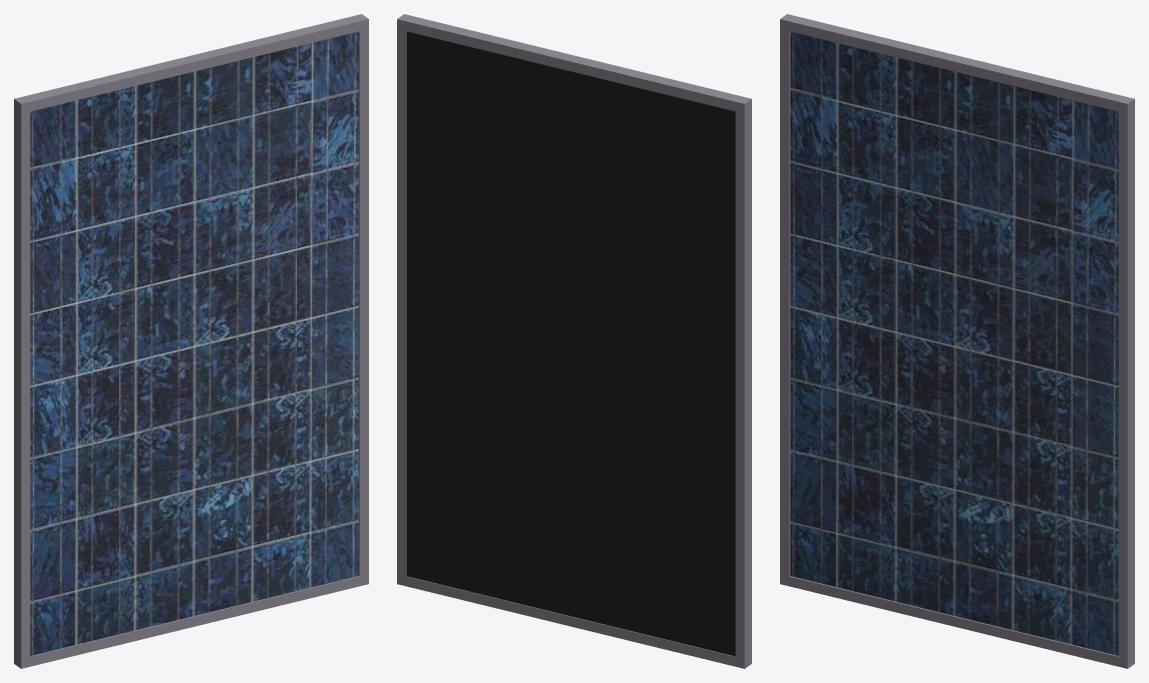
The model's file is PV_kompakt_hoch.obj.
3 views of the same model, side by side, from view 1: azimuth 30°, elevation 25°; view 2: azimuth 150°, elevation 25°; view 3: azimuth 330°, elevation 25° (orthographic).
Visible parts, largest first — view 1: Cube, Würfel.001, Würfel, Würfel.003, Würfel.002; view 2: Würfel.004, Würfel.001, Würfel.003, Würfel, Würfel.002; view 3: Cube, Würfel, Würfel.001, Würfel.003, Würfel.002.
Part boxes in pixels (x1,y1,x2,y2): Cube: [30, 31, 358, 655]; Würfel.001: [14, 99, 30, 667]; Würfel: [358, 19, 368, 585]; Würfel.003: [14, 14, 368, 112]; Würfel.002: [15, 575, 368, 668]; Würfel.004: [406, 31, 735, 656]; Würfel.001: [735, 99, 751, 667]; Würfel.003: [397, 14, 751, 113]; Würfel: [397, 19, 406, 585]; Würfel.002: [397, 574, 750, 668]; Cube: [790, 31, 1118, 655]; Würfel: [1118, 99, 1134, 667]; Würfel.001: [780, 19, 790, 585]; Würfel.003: [780, 14, 1134, 113]; Würfel.002: [780, 574, 1133, 668].
Size of the model in its own units: 1.13 by 1.76 by 0.04.
Materials: 4 (1 with a texture image).
